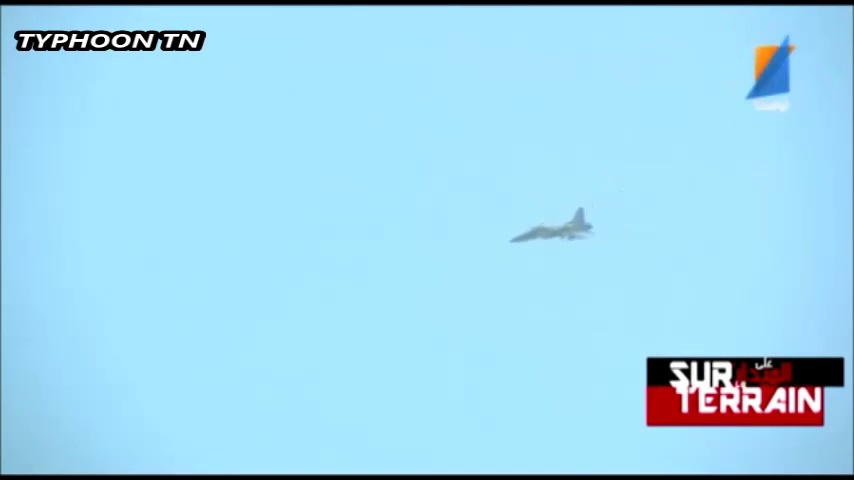Airplane: (509, 206, 594, 244)
